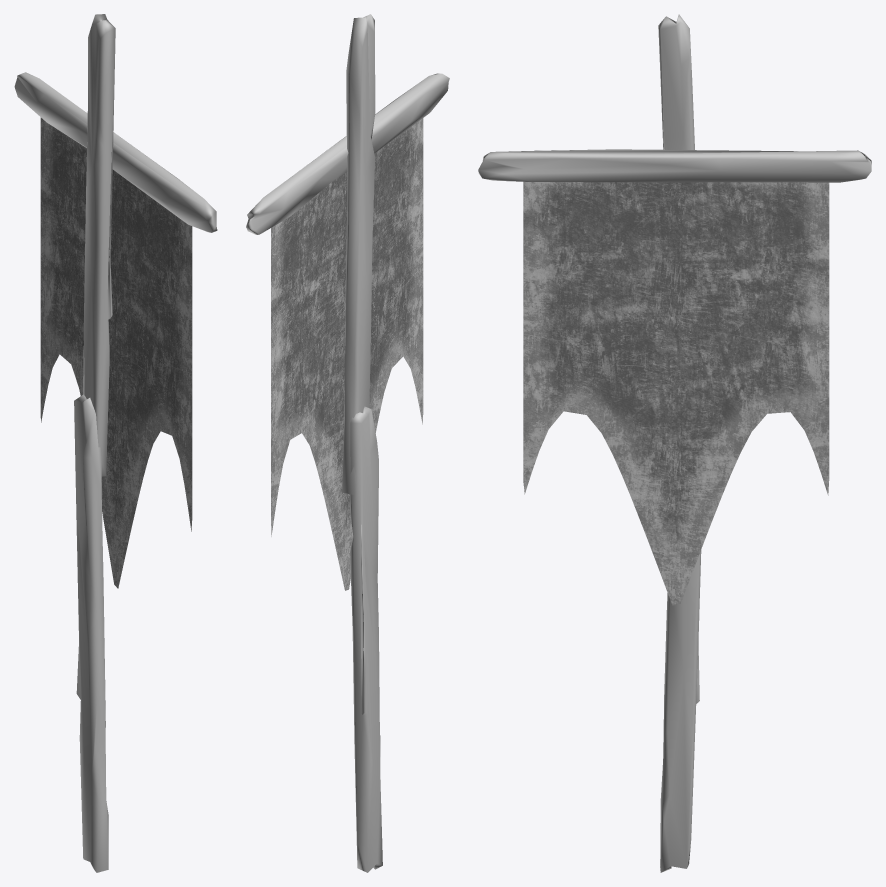
Rendered from SM_Flag_C_Full_AsStaticMesh.fbx.
The picture shows the model from 3 angles, left to right: view 1: azimuth 30°, elevation 25°; view 2: azimuth 150°, elevation 25°; view 3: azimuth 270°, elevation 25°; orthographic projection.
Parts seen in each view (by area): view 1: SM_Flag_C_Full_AsStaticMesh; view 2: SM_Flag_C_Full_AsStaticMesh; view 3: SM_Flag_C_Full_AsStaticMesh.
Boxes of the visible parts, box(x1,y1,x2,y2) form: SM_Flag_C_Full_AsStaticMesh: box(14, 14, 217, 872); SM_Flag_C_Full_AsStaticMesh: box(246, 14, 449, 872); SM_Flag_C_Full_AsStaticMesh: box(478, 14, 871, 872).
Bounding box in the file's own units: 15.33 × 129 × 309.
